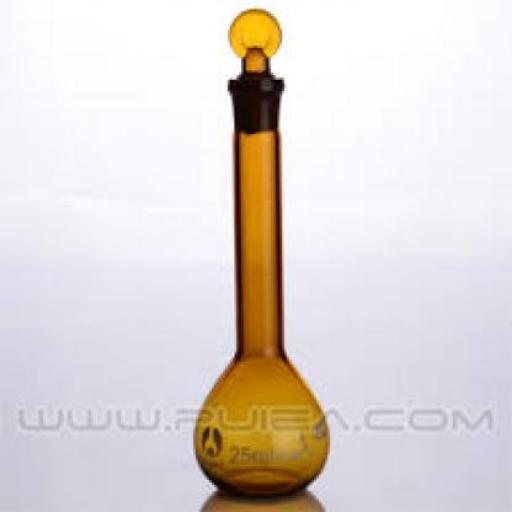glass: (191, 7, 328, 496)
